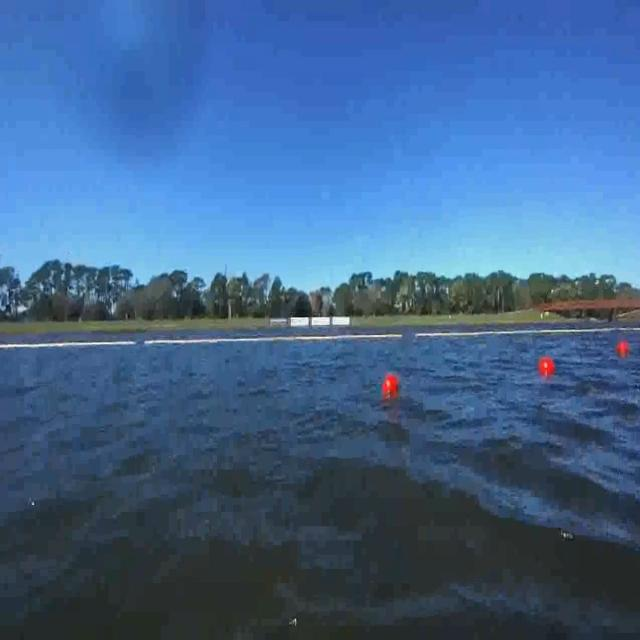red-buoy: (381, 372, 397, 398), (540, 357, 556, 377), (617, 342, 631, 359)
